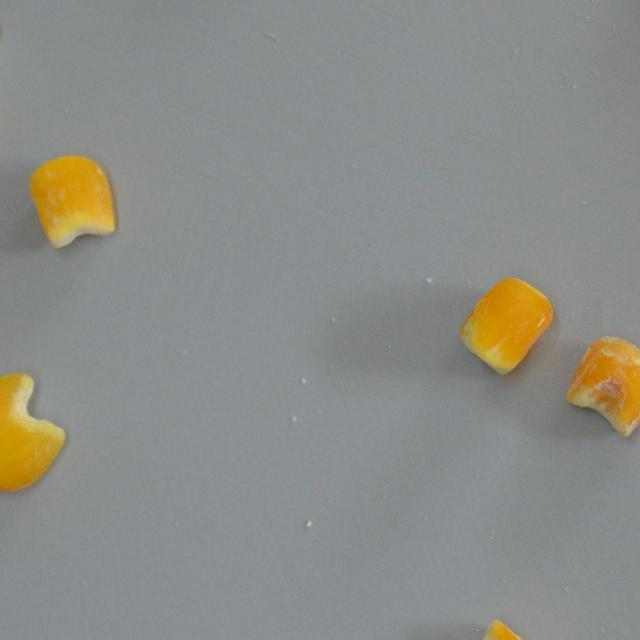dañado: (0, 366, 69, 498), (562, 334, 640, 438), (429, 616, 552, 640)
pelicula: (25, 150, 118, 251)
punto_negro: (456, 274, 557, 378)
